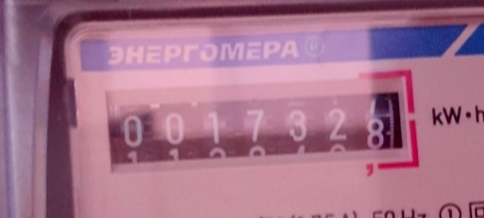0: (121, 111, 145, 149), (163, 110, 185, 145)
1: (206, 108, 223, 145)
2: (325, 106, 348, 143)
3: (285, 107, 310, 143)
7: (242, 105, 268, 144)
8: (363, 115, 385, 151)
screen: (95, 69, 423, 189)
